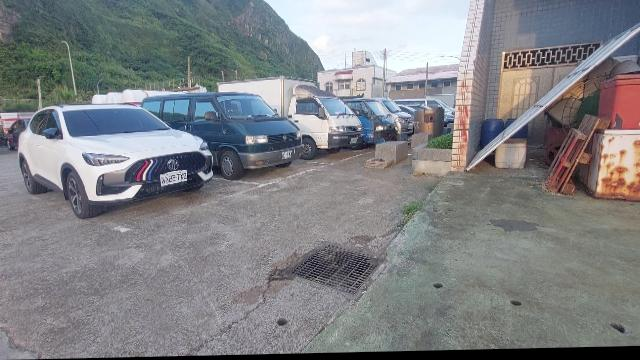pollute: (537, 60, 638, 205), (480, 120, 519, 151), (493, 138, 528, 172)
